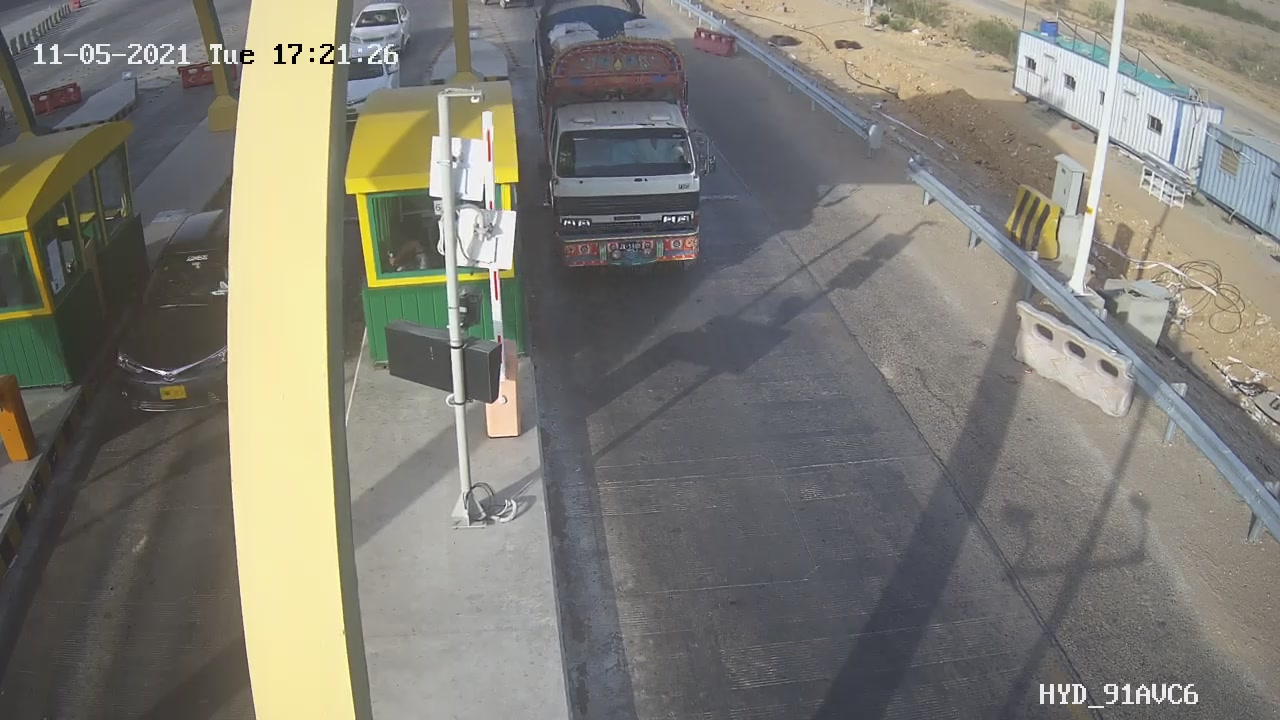F5: (521, 7, 735, 286)
